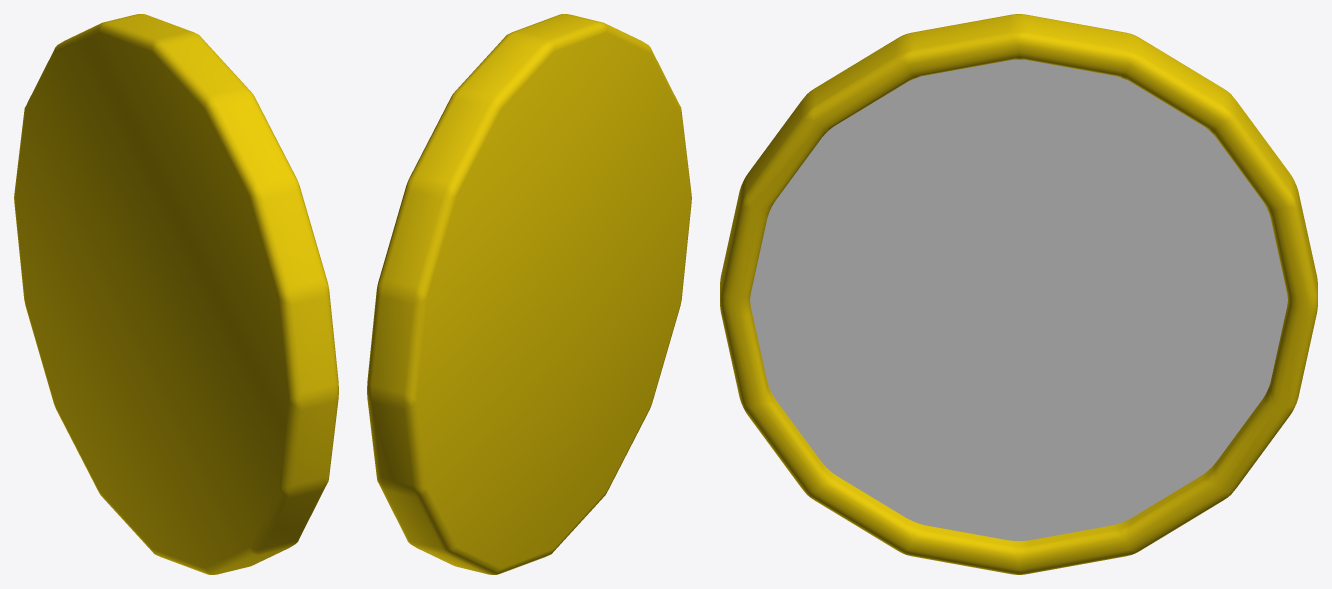
File: clock.fbx
3 views of the same model, side by side, from view 1: azimuth 30°, elevation 25°; view 2: azimuth 150°, elevation 25°; view 3: azimuth 270°, elevation 25° (orthographic). The views are drawn at different scales.
Parts seen in each view (by area): view 1: Clock; view 2: Clock; view 3: Clock.
Boxes of the visible parts, x1,y1,x2,y2 form: Clock: [14, 14, 338, 574]; Clock: [367, 14, 691, 574]; Clock: [720, 14, 1317, 574].
Bounding box in the file's own units: 22 × 219 × 219.
